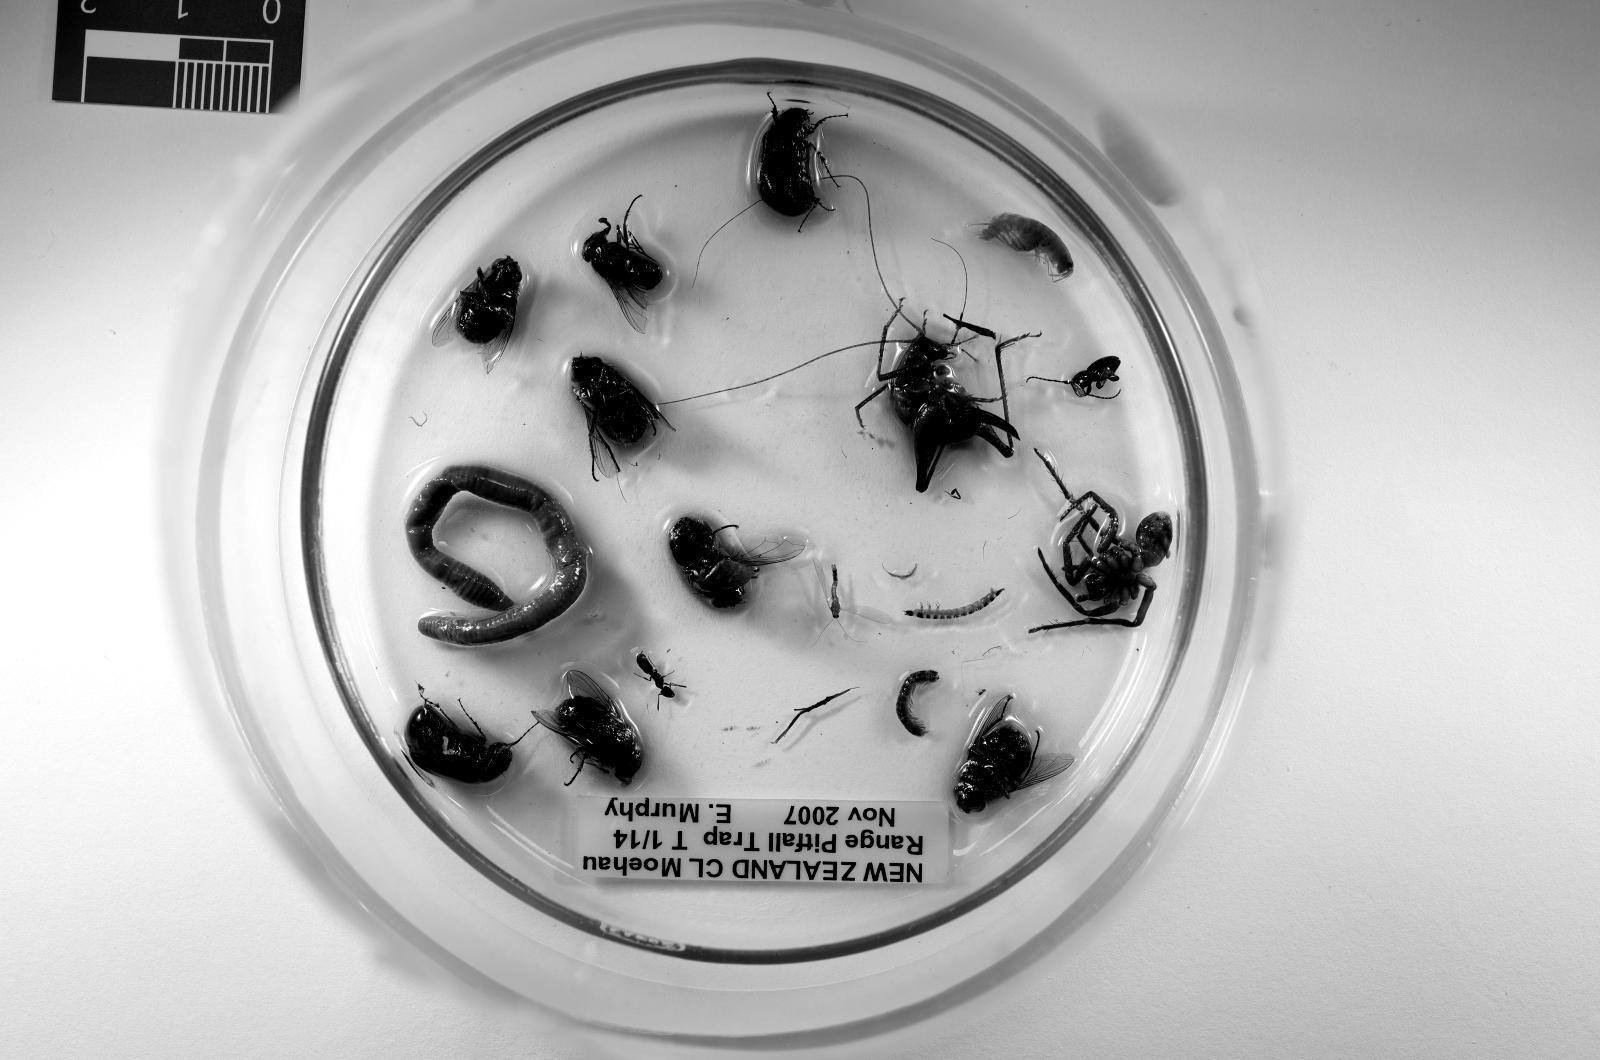amphipoda: (982, 214, 1071, 283)
annelida: (407, 466, 588, 646)
araneae: (1035, 453, 1172, 631)
coleoptera: (403, 686, 516, 783), (757, 103, 822, 218), (1028, 357, 1122, 397)
coleoptera_larva: (906, 590, 1003, 618)
diptera: (953, 696, 1071, 814), (669, 516, 807, 608), (535, 671, 643, 786), (572, 357, 666, 476), (432, 254, 522, 373), (582, 205, 662, 332), (816, 558, 894, 625)
formicidae: (634, 652, 685, 699)
orthoptera: (856, 302, 1037, 491)
